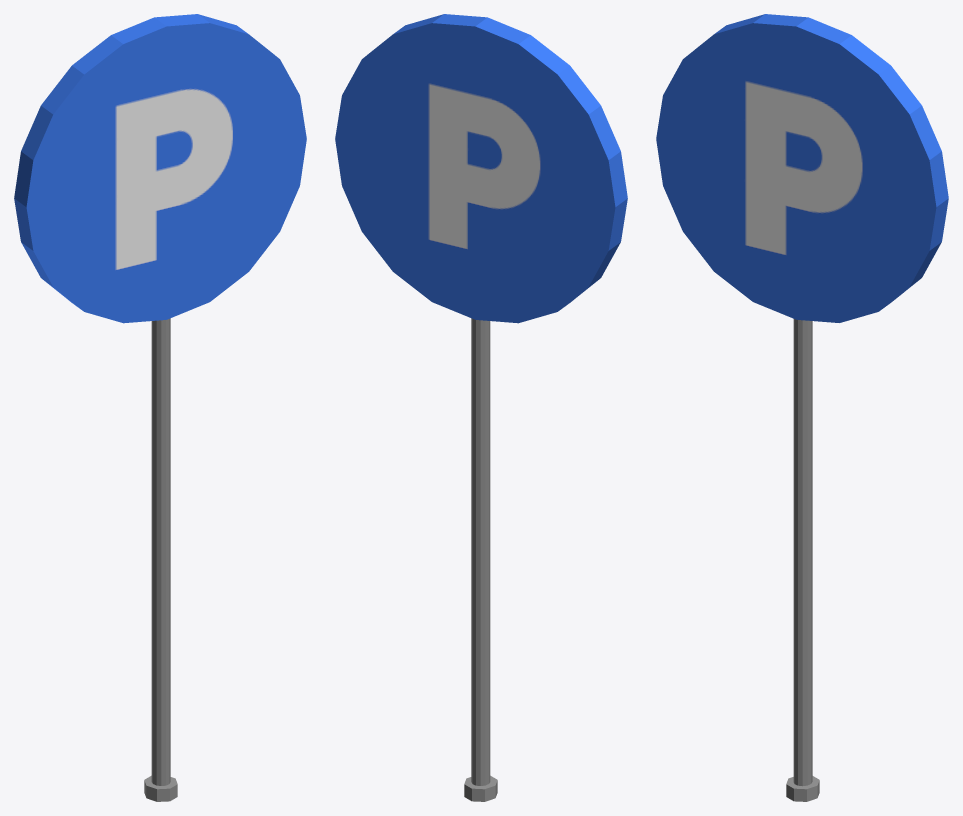
The model's file is D1_TRAFFIC_SIGN_3.fbx.
3 renders of one model, left to right at view 1: azimuth 30°, elevation 25°; view 2: azimuth 150°, elevation 25°; view 3: azimuth 330°, elevation 25°, orthographic.
Parts seen in each view (by area): view 1: D1_SIGNAGE_PARKING; view 2: D1_SIGNAGE_PARKING; view 3: D1_SIGNAGE_PARKING.
Part boxes in pixels (box(x1,y1,x2,y2)): D1_SIGNAGE_PARKING: box(14, 14, 306, 801); D1_SIGNAGE_PARKING: box(335, 14, 627, 801); D1_SIGNAGE_PARKING: box(656, 14, 948, 801).
Bounding box in the file's own units: 106 × 279 × 11.91.
Materials: 2 (1 with a texture image).
